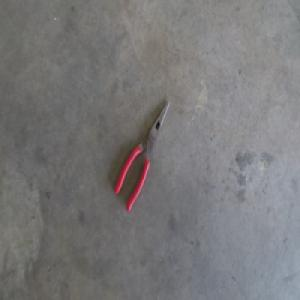Pliers: (113, 99, 169, 211)
